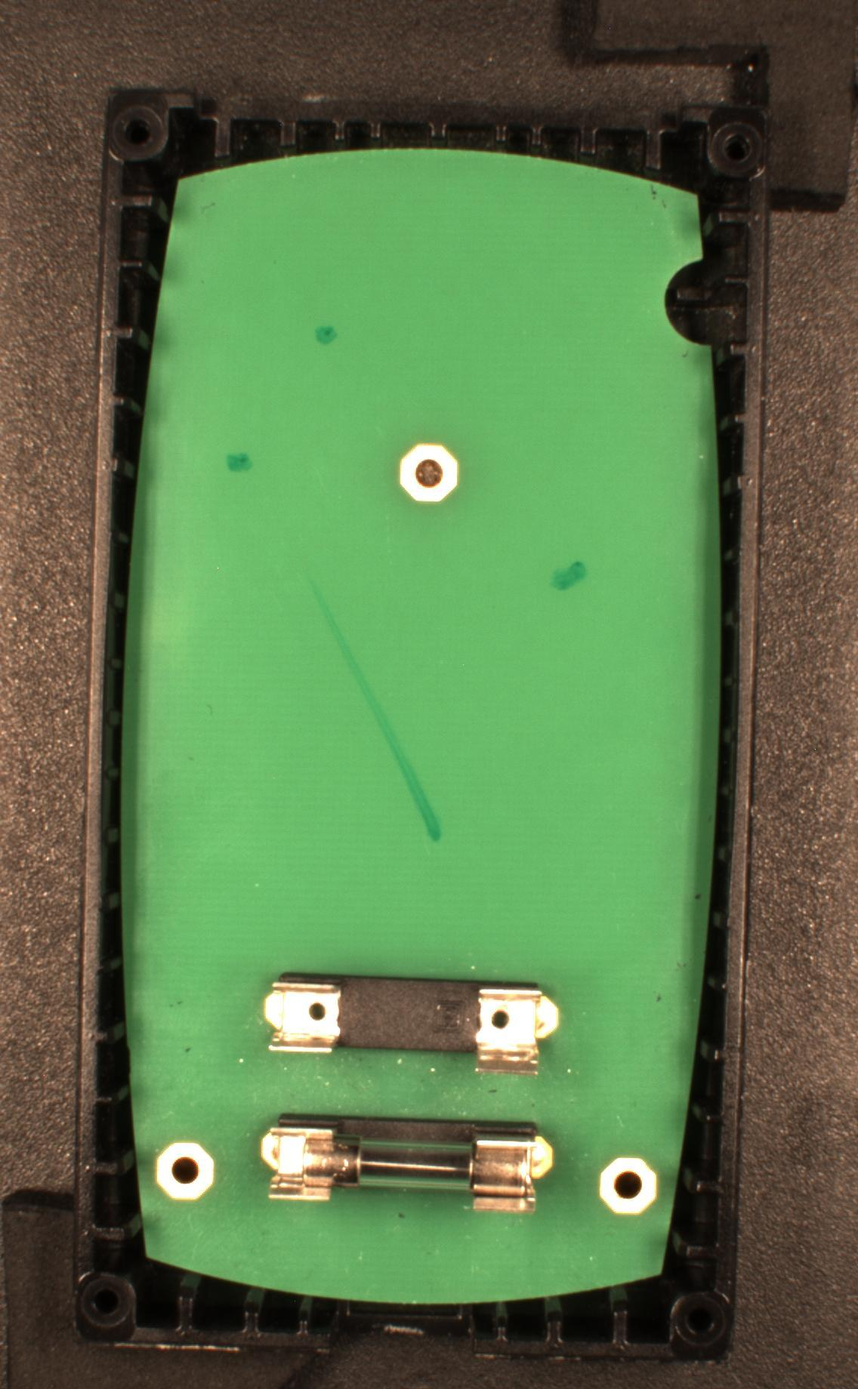Linijsko Ostecene: (308, 578, 443, 844)
Nepostojanje osiguraca: (263, 970, 560, 1078)
Tockasto Ostecenje: (548, 560, 589, 592), (224, 450, 255, 474), (313, 322, 339, 346)
